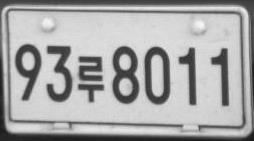0: (144, 45, 171, 104)
1: (208, 47, 238, 106), (176, 47, 205, 105)
3: (46, 45, 73, 102)
8: (111, 45, 139, 104)
9: (14, 43, 42, 100)
루: (77, 55, 104, 102)
